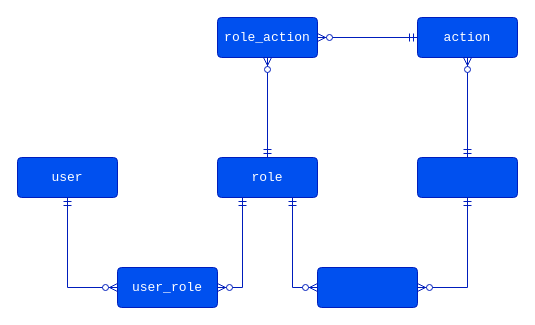
Some shapes in this 535 by 325 pixel diagram are drawn without their labels. Each missing label, with the centre of its shape:
"menu" belongs at (x=467, y=177).
"role_menu" belongs at (x=367, y=287).
